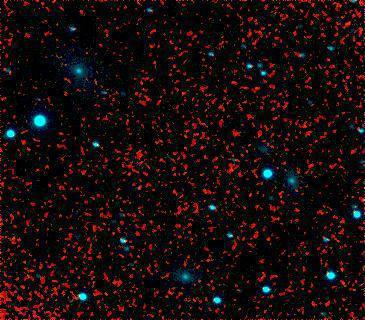star: (253, 225, 283, 255)
